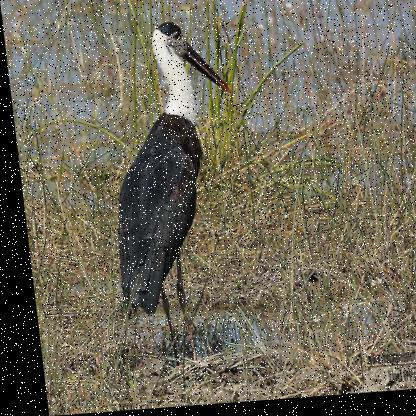Burung: (84, 18, 261, 362)
